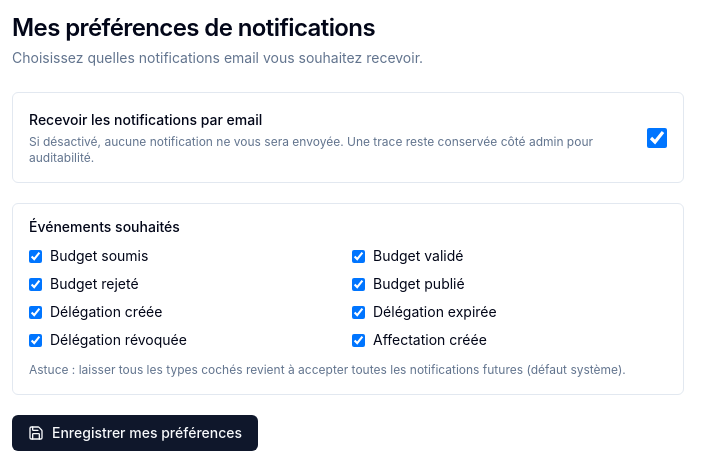
Test: PreferencesNotificationsPage › décocher le toggle global masque la liste des types
The width and height of the screenshot is (701, 468).
Step 1. Click the checkbox with test id "toggle-global" → (657, 138), box [648,128,667,148]
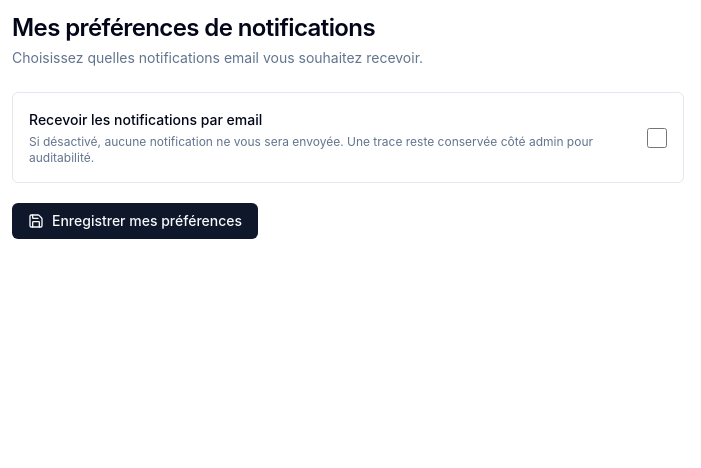
Check: the checkbox with test id "toggle-global" is not checked, box [648,128,667,148]
Check: the label with test id "type-BUDGET_SOUMIS" is gone
